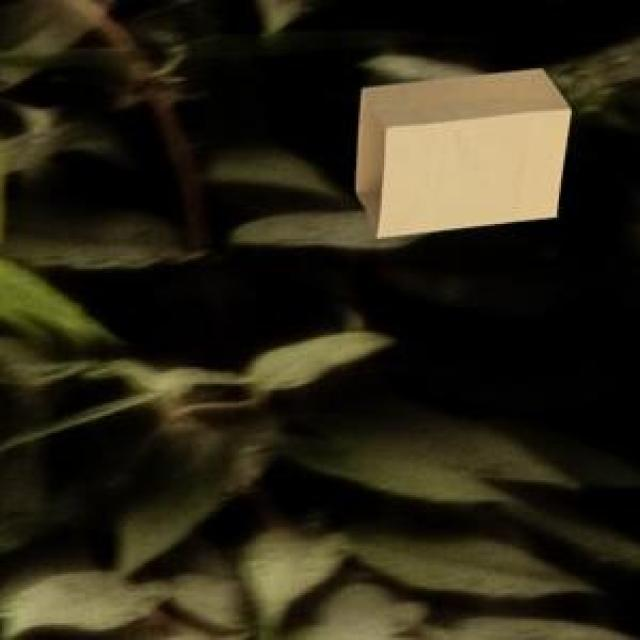paper: (352, 64, 568, 233)
